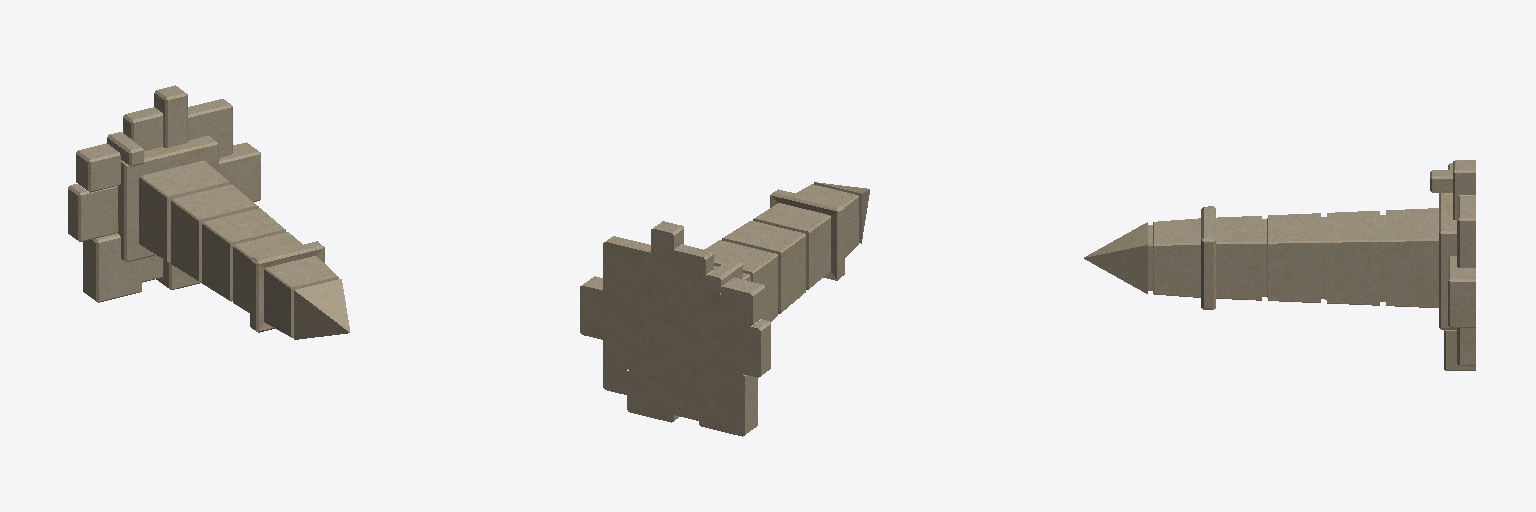
3 views of the same model, side by side, from view 1: azimuth 30°, elevation 25°; view 2: azimuth 150°, elevation 25°; view 3: azimuth 270°, elevation 25° (orthographic).
Parts seen in each view (by area): view 1: Cube_003; view 2: Cube_003; view 3: Cube_003.
Part boxes in pixels (left/top/right/bottom): Cube_003: left=68, top=85, right=349, bottom=339; Cube_003: left=580, top=182, right=869, bottom=436; Cube_003: left=1084, top=160, right=1475, bottom=370.
Bounding box in the file's own units: 230 × 230 × 430.
Materials: 1 (1 with a texture image).